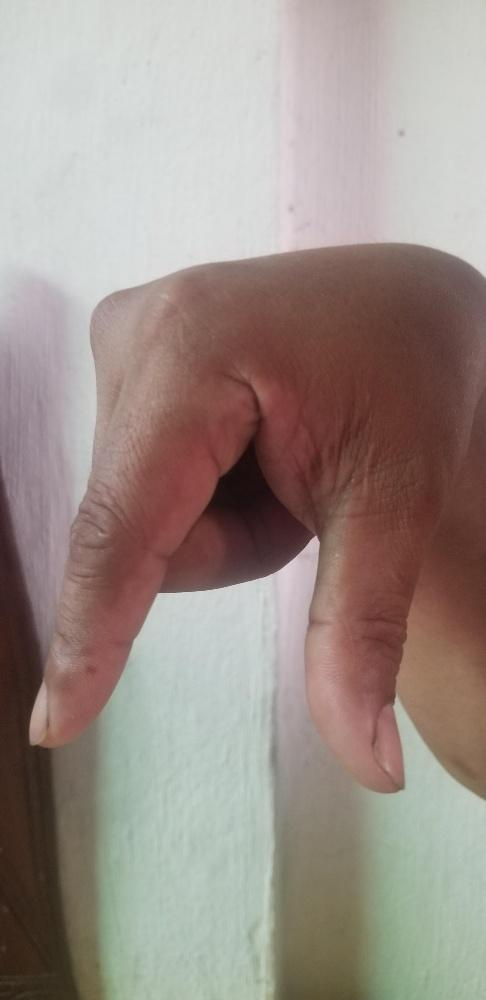q: (25, 224, 470, 793)
